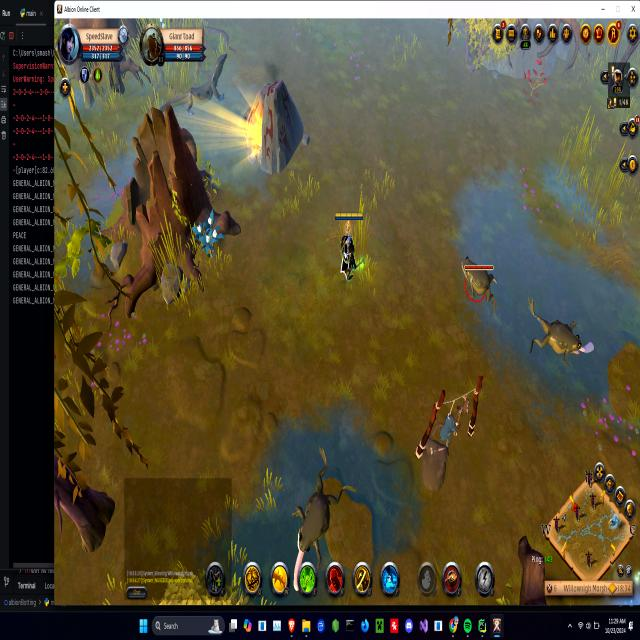hide: (192, 209, 223, 263)
ore: (153, 45, 236, 126), (456, 247, 505, 322)
red: (331, 206, 368, 290)
